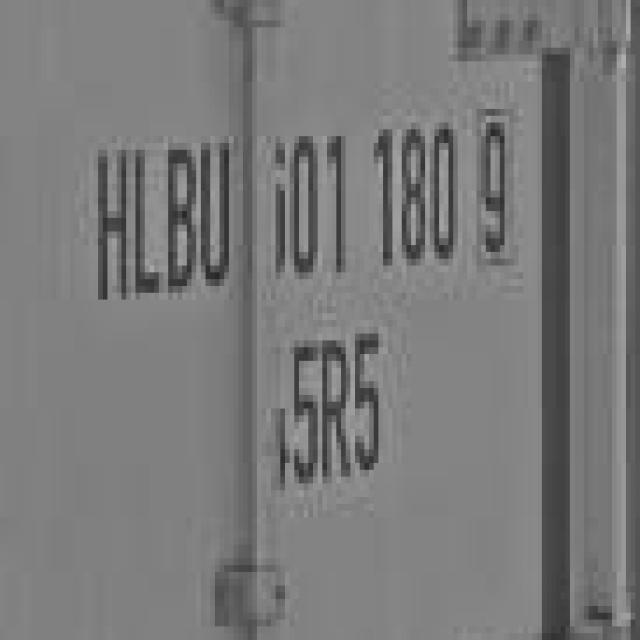dv: (471, 104, 517, 271)
owner: (72, 125, 240, 312)
serial: (264, 123, 458, 291)
size: (255, 320, 392, 493)
